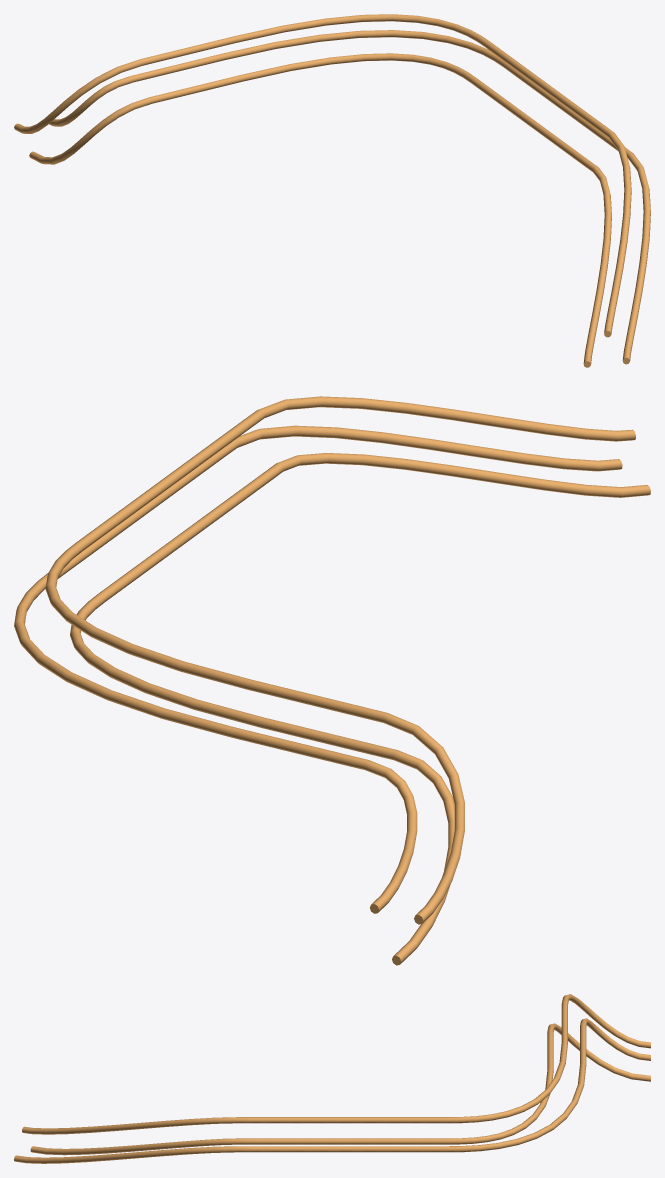
File: Rampe-A.fbx
3 views of the same model, one above another, from view 1: azimuth 30°, elevation 25°; view 2: azimuth 150°, elevation 25°; view 3: azimuth 270°, elevation 25° (orthographic). The views are drawn at different scales.
Visible parts, largest first — view 1: Rampe-A; view 2: Rampe-A; view 3: Rampe-A.
Boxes of the visible parts, <box> form: Rampe-A: <box>14,14,650,367</box>; Rampe-A: <box>14,396,650,965</box>; Rampe-A: <box>14,994,650,1163</box>.
Size of the model in its own units: 4618 by 1430 by 7947.
